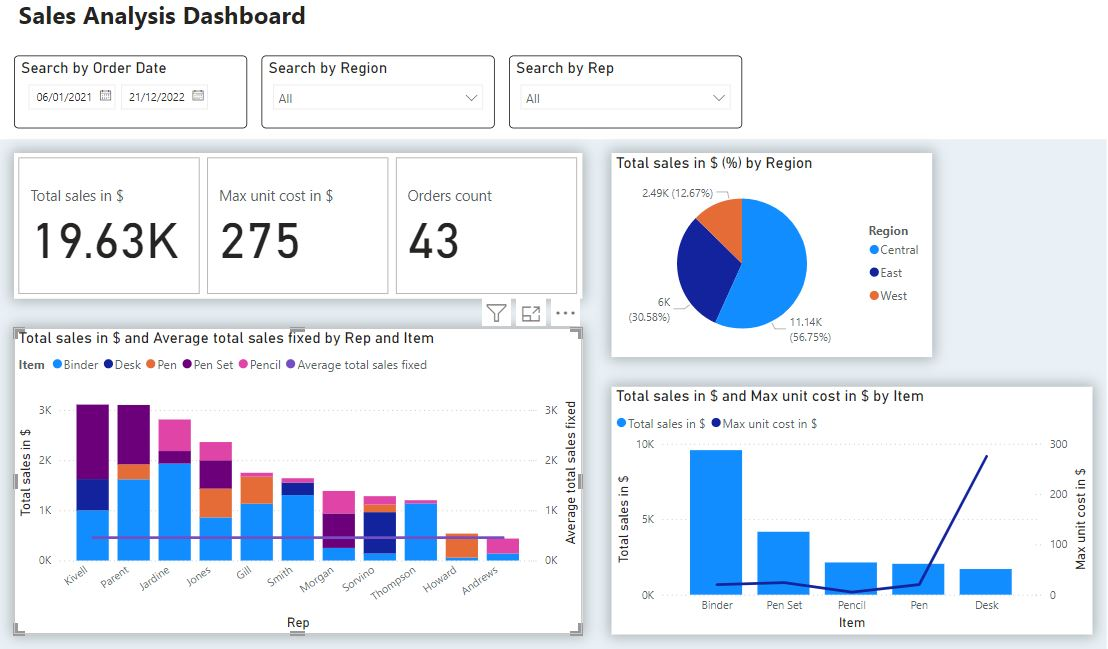

The dashboard page shown, as its layout file describes it:
{"tool":"powerbi","page":{"name":"Sales Analysis","canvas":[1280,720],"ordinal":0},"visuals":[{"type":"shape","box":[0,160,1216,560],"z":0},{"type":"slicer","title":"Search by Order Date","fields":{"Values":["SalesOrders.OrderDate"]},"box":[16.2,68.9,256,80],"z":1000},{"type":"slicer","title":"Search by Region","fields":{"Values":["SalesOrders.Region"]},"box":[288.2,68.9,256,80],"z":2000},{"type":"slicer","title":"Search by Rep","fields":{"Values":["SalesOrders.Rep"]},"box":[560.2,68.9,256,80],"z":3000},{"type":"textbox","box":[16,0,352,48],"z":4000},{"type":"cardVisual","fields":{"Data":["SalesOrders.Total sales","SalesOrders.Max unit cost","SalesOrders.Orders"]},"box":[16,176,624,160],"z":5000},{"type":"pieChart","fields":{"Y":["SalesOrders.Total sales"],"Category":["SalesOrders.Region"]},"box":[672,176,352,224],"z":6000},{"type":"lineStackedColumnComboChart","fields":{"Category":["SalesOrders.Rep"],"Y":["SalesOrders.Total sales"],"Y2":["SalesOrders.Average total sales fixed"],"Series":["SalesOrders.Item"]},"box":[16,368,624,336],"z":7000},{"type":"lineClusteredColumnComboChart","fields":{"Category":["SalesOrders.Item"],"Y":["SalesOrders.Total sales"],"Y2":["SalesOrders.Max unit cost"]},"box":[672,432,528,272],"z":8000}]}

Visuals, with their boxes on the page's 1280x720 design canvas (x1, y1, x2, y2). These are canvas units, not pixel positions in the 1108x649 screenshot, which may show the page scaled, cropped or inside an application window:
shape: 0:160:1216:720
"Search by Order Date" slicer: 16:69:272:149
"Search by Region" slicer: 288:69:544:149
"Search by Rep" slicer: 560:69:816:149
textbox: 16:0:368:48
cardVisual - SalesOrders.Total sales x SalesOrders.Max unit cost: 16:176:640:336
pieChart - SalesOrders.Total sales x SalesOrders.Region: 672:176:1024:400
lineStackedColumnComboChart - SalesOrders.Rep x SalesOrders.Total sales: 16:368:640:704
lineClusteredColumnComboChart - SalesOrders.Item x SalesOrders.Total sales: 672:432:1200:704
